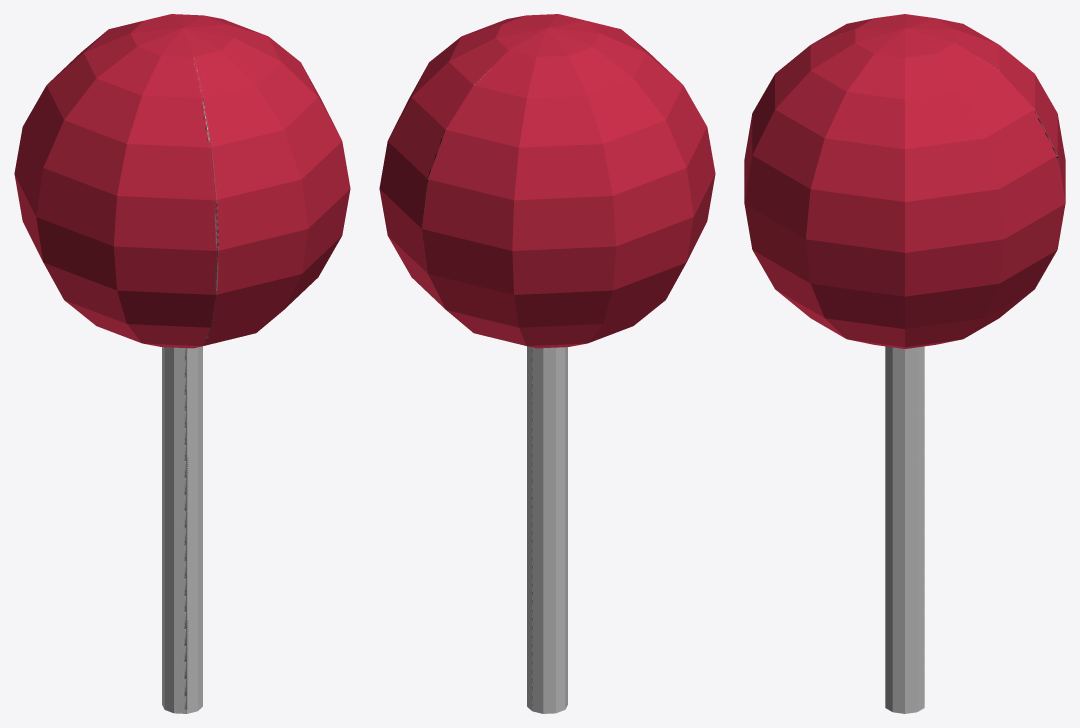
The model's file is point_marker.glb.
The picture shows the model from 3 angles, left to right: view 1: azimuth 30°, elevation 25°; view 2: azimuth 150°, elevation 25°; view 3: azimuth 270°, elevation 25°; orthographic projection.
Parts seen in each view (by area): view 1: Lollipop:headusOBJexport; view 2: Lollipop:headusOBJexport; view 3: Lollipop:headusOBJexport.
Boxes of the visible parts, left/top/right/bottom form: Lollipop:headusOBJexport: left=14, top=14, right=350, bottom=713; Lollipop:headusOBJexport: left=379, top=14, right=715, bottom=713; Lollipop:headusOBJexport: left=744, top=14, right=1065, bottom=713.
Bounding box in the file's own units: 4.08 × 9.05 × 3.88.
Materials: 1 (1 with a texture image).
